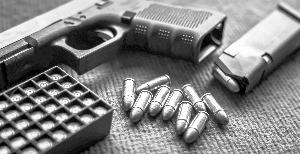handgun: (0, 3, 258, 93)
